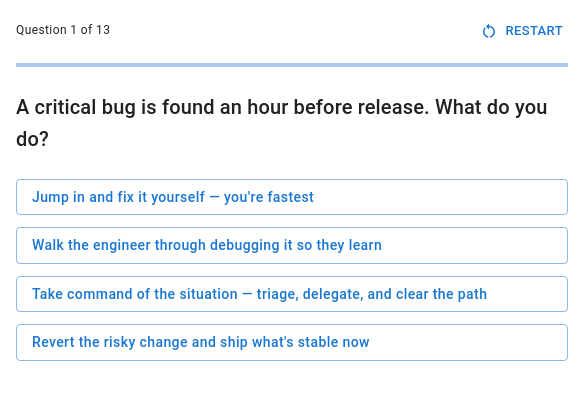
Test case: SurveyPage › restart resets to question 1
The width and height of the screenshot is (585, 395).
Click the button "Jump in and fix it yourself — you're fastest": {"x": 292, "y": 197} left=16, top=179, right=568, bottom=215
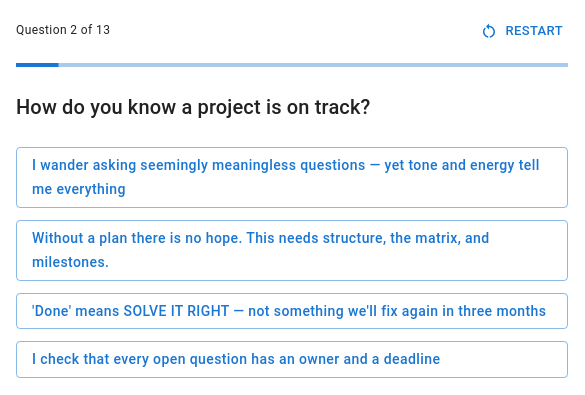
Click the button "Restart": {"x": 522, "y": 31} left=477, top=16, right=568, bottom=47
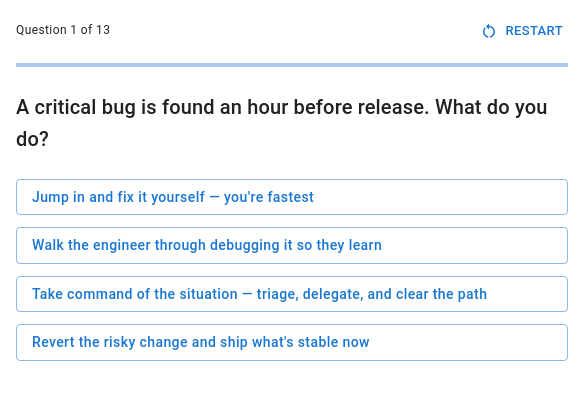
Expected: the heading "A critical bug is found an hour before release. What do you do?" is shown, left=16, top=91, right=568, bottom=155
